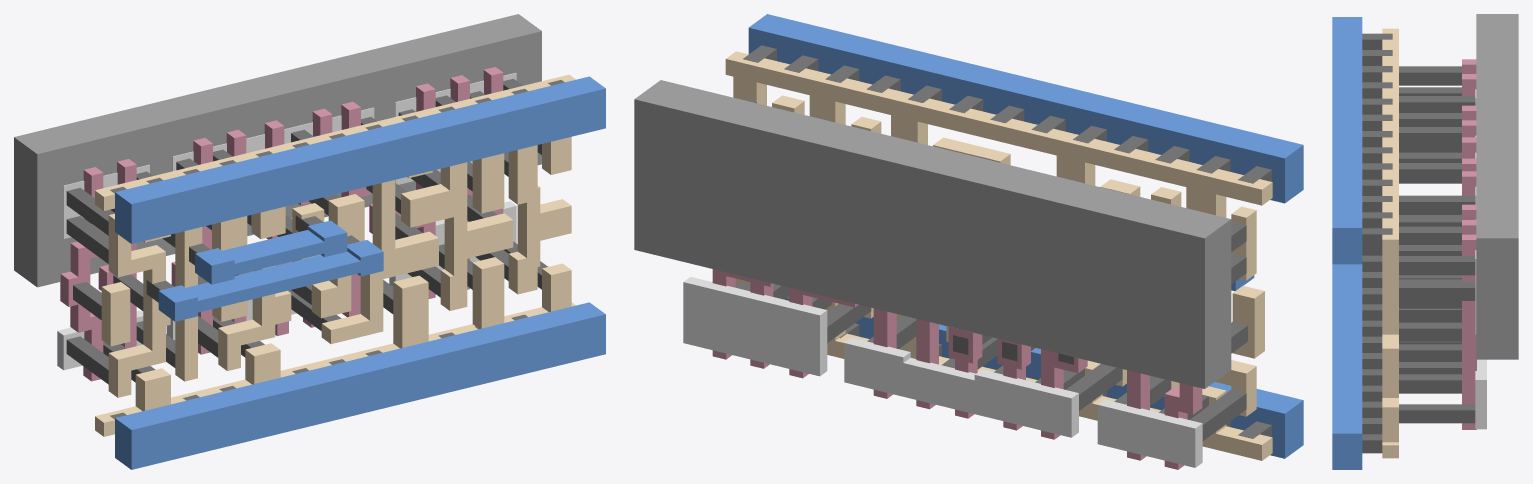
Rendered from sky130_fd_sc_hd__dlxtn_2.gds.gltf.
3 renders of one model, left to right at view 1: azimuth 30°, elevation 25°; view 2: azimuth 150°, elevation 25°; view 3: azimuth 270°, elevation 25°, orthographic. The views are drawn at different scales.
Parts seen in each view (by area): view 1: sky130_fd_sc_hd__dlxtn_2_met1, sky130_fd_sc_hd__dlxtn_2_li1, sky130_fd_sc_hd__dlxtn_2_nwell, sky130_fd_sc_hd__dlxtn_2_licon, sky130_fd_sc_hd__dlxtn_2_poly, sky130_fd_sc_hd__dlxtn_2_diff, sky130_fd_sc_hd__dlxtn_2_mcon; view 2: sky130_fd_sc_hd__dlxtn_2_nwell, sky130_fd_sc_hd__dlxtn_2_li1, sky130_fd_sc_hd__dlxtn_2_met1, sky130_fd_sc_hd__dlxtn_2_diff, sky130_fd_sc_hd__dlxtn_2_poly, sky130_fd_sc_hd__dlxtn_2_licon, sky130_fd_sc_hd__dlxtn_2_mcon; view 3: sky130_fd_sc_hd__dlxtn_2_licon, sky130_fd_sc_hd__dlxtn_2_nwell, sky130_fd_sc_hd__dlxtn_2_met1, sky130_fd_sc_hd__dlxtn_2_mcon, sky130_fd_sc_hd__dlxtn_2_li1, sky130_fd_sc_hd__dlxtn_2_poly, sky130_fd_sc_hd__dlxtn_2_diff.
Part boxes in pixels (<box>): sky130_fd_sc_hd__dlxtn_2_met1: <box>115,76,605,469</box>; sky130_fd_sc_hd__dlxtn_2_li1: <box>95,74,575,436</box>; sky130_fd_sc_hd__dlxtn_2_nwell: <box>14,14,541,287</box>; sky130_fd_sc_hd__dlxtn_2_licon: <box>66,78,547,384</box>; sky130_fd_sc_hd__dlxtn_2_poly: <box>60,67,503,381</box>; sky130_fd_sc_hd__dlxtn_2_diff: <box>57,73,516,370</box>; sky130_fd_sc_hd__dlxtn_2_mcon: <box>110,80,564,419</box>; sky130_fd_sc_hd__dlxtn_2_nwell: <box>634,80,1231,388</box>; sky130_fd_sc_hd__dlxtn_2_li1: <box>725,51,1272,460</box>; sky130_fd_sc_hd__dlxtn_2_met1: <box>748,14,1303,458</box>; sky130_fd_sc_hd__dlxtn_2_diff: <box>683,277,1202,467</box>; sky130_fd_sc_hd__dlxtn_2_poly: <box>712,269,1202,469</box>; sky130_fd_sc_hd__dlxtn_2_licon: <box>735,98,1247,440</box>; sky130_fd_sc_hd__dlxtn_2_mcon: <box>743,45,1271,438</box>; sky130_fd_sc_hd__dlxtn_2_licon: <box>1399,66,1475,423</box>; sky130_fd_sc_hd__dlxtn_2_nwell: <box>1476,14,1518,359</box>; sky130_fd_sc_hd__dlxtn_2_met1: <box>1332,17,1362,469</box>; sky130_fd_sc_hd__dlxtn_2_mcon: <box>1362,33,1392,453</box>; sky130_fd_sc_hd__dlxtn_2_li1: <box>1382,28,1398,458</box>; sky130_fd_sc_hd__dlxtn_2_poly: <box>1462,59,1476,429</box>; sky130_fd_sc_hd__dlxtn_2_diff: <box>1475,89,1486,429</box>.
Size of the model in its own units: 6.36 by 3.2 by 2.24.
